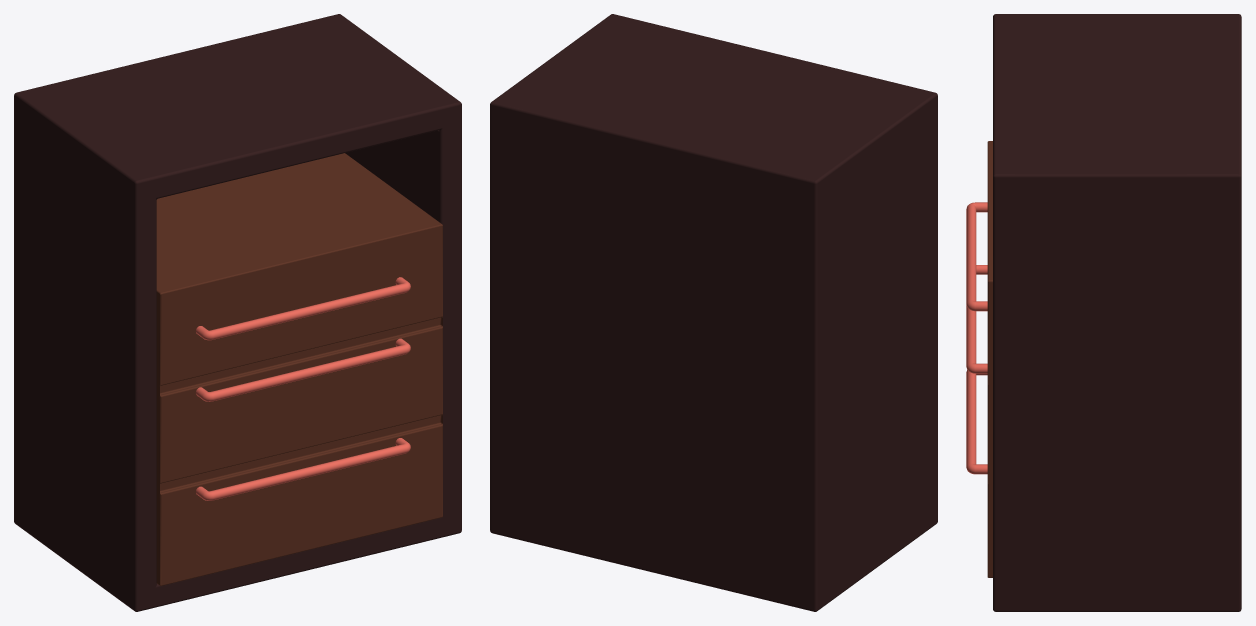
Rendered from Mesa de luz.fbx.
3 views of the same model, side by side, from view 1: azimuth 30°, elevation 25°; view 2: azimuth 150°, elevation 25°; view 3: azimuth 270°, elevation 25° (orthographic).
Visible parts, largest first — view 1: Madera superior; view 2: Madera superior; view 3: Madera superior.
Boxes of the visible parts, x1,y1,x2,y2 form: Madera superior: [14, 14, 461, 611]; Madera superior: [490, 14, 937, 611]; Madera superior: [966, 14, 1241, 611].
Bounding box in the file's own units: 54 × 68 × 38.72.
